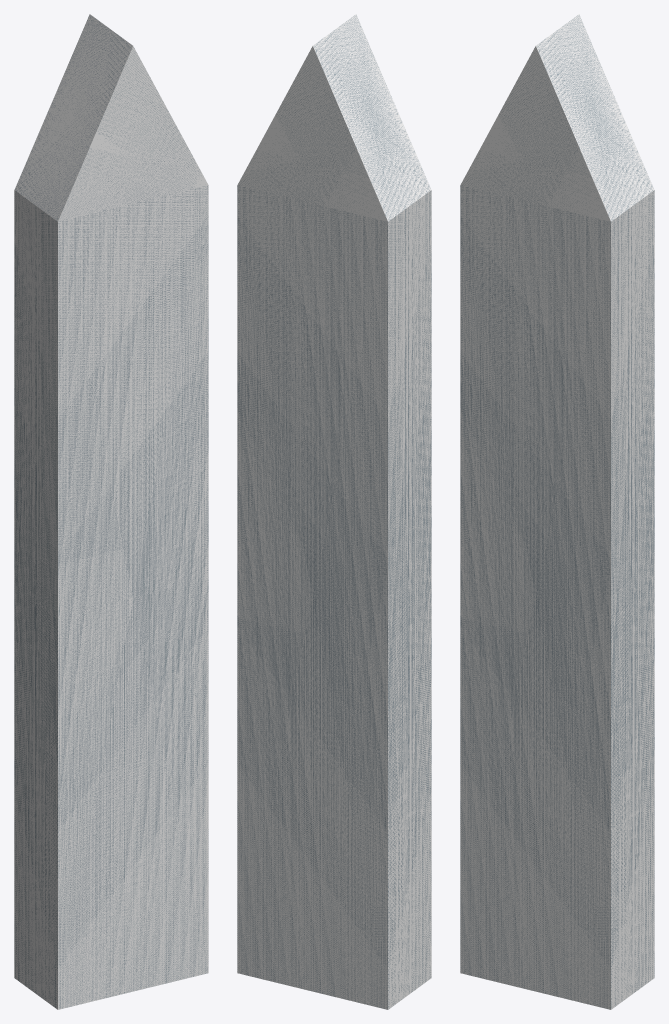
File: FencePost.fbx
The picture shows the model from 3 angles, left to right: view 1: azimuth 30°, elevation 25°; view 2: azimuth 150°, elevation 25°; view 3: azimuth 330°, elevation 25°; orthographic projection.
Parts seen in each view (by area): view 1: Model; view 2: Model; view 3: Model.
Boxes of the visible parts, x1,y1,x2,y2 form: Model: (14, 14, 208, 1009); Model: (237, 14, 431, 1009); Model: (460, 14, 654, 1009).
Bounding box in the file's own units: 0.2 × 1.2 × 0.1.
